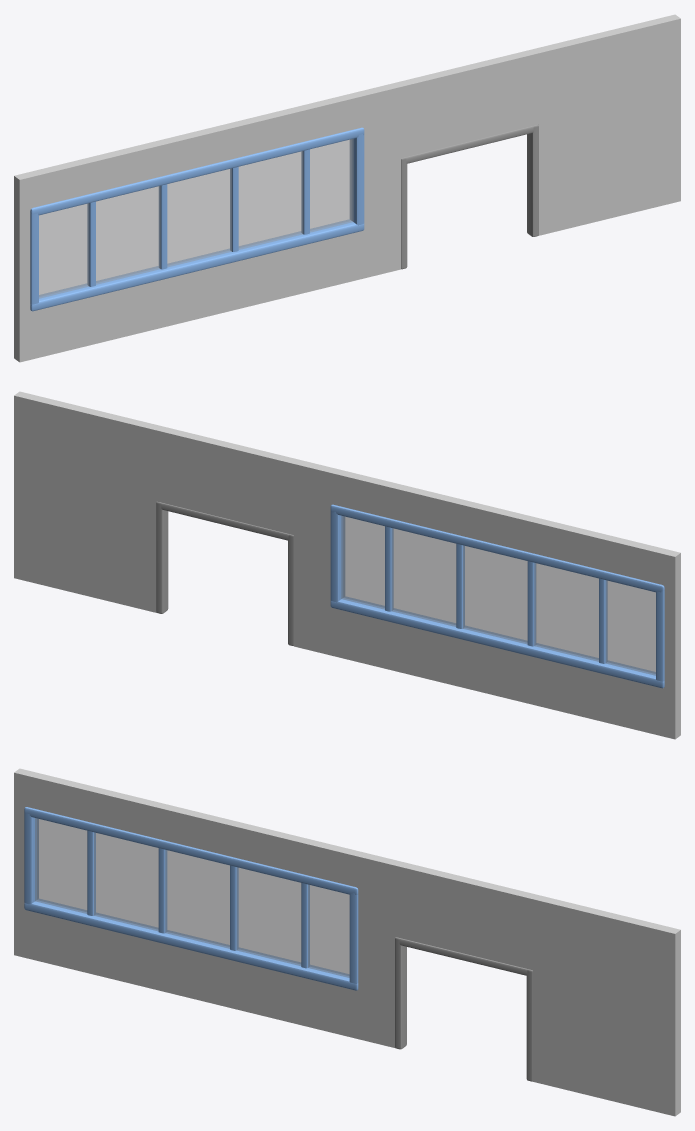
File: Zeminn.fbx
3 renders of one model, top to bottom at view 1: azimuth 30°, elevation 25°; view 2: azimuth 150°, elevation 25°; view 3: azimuth 330°, elevation 25°, orthographic.
Visible parts, largest first — view 1: zemin24; view 2: zemin24; view 3: zemin24.
Part boxes in pixels (box(x1,y1,x2,y2)): zemin24: box(14, 14, 680, 362); zemin24: box(14, 391, 680, 739); zemin24: box(14, 768, 680, 1116).
Size of the model in its own units: 1615 by 427 by 34.41.
